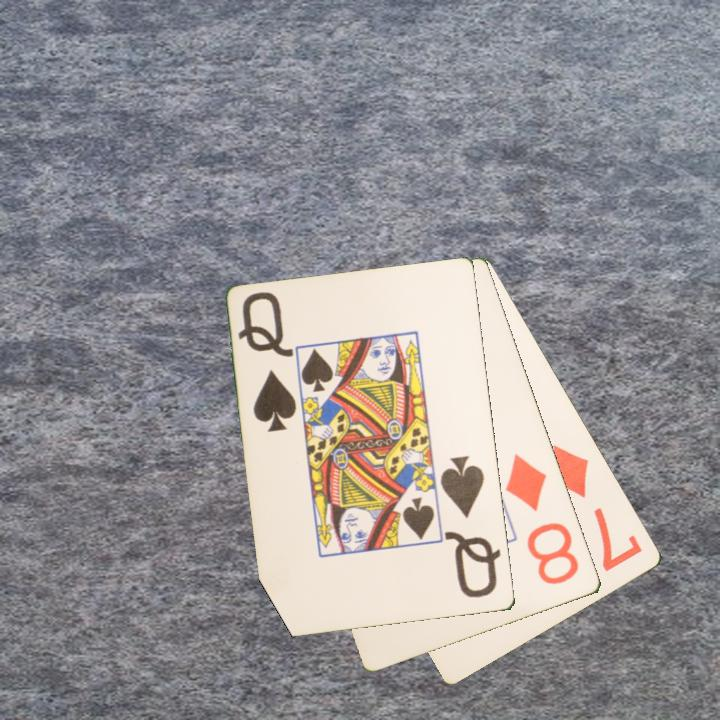7d: (546, 441, 646, 575)
8d: (502, 450, 582, 588)
Qs: (437, 452, 504, 601), (235, 288, 300, 435)
